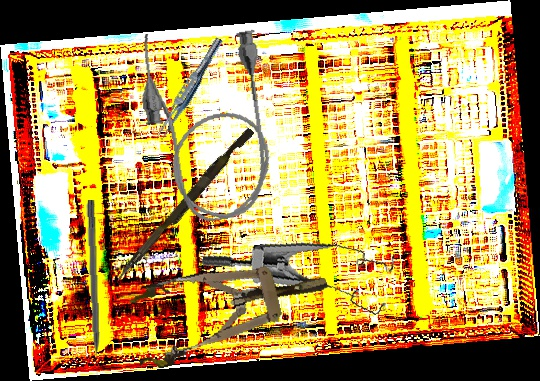Cannula: (131, 17, 284, 229)
Pusher: (115, 123, 255, 287), (84, 199, 102, 379)
Speculum: (121, 242, 338, 374), (200, 219, 405, 346)
Tissue Forceps: (153, 34, 226, 144)
